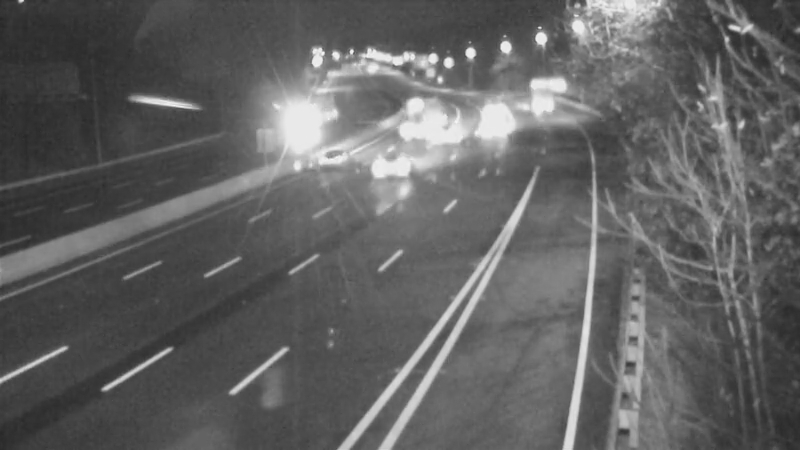vehicle: (349, 122, 429, 202), (292, 119, 372, 199), (512, 70, 562, 120), (470, 86, 520, 136), (388, 83, 438, 133), (469, 98, 519, 148), (418, 104, 468, 154), (278, 94, 328, 144)
